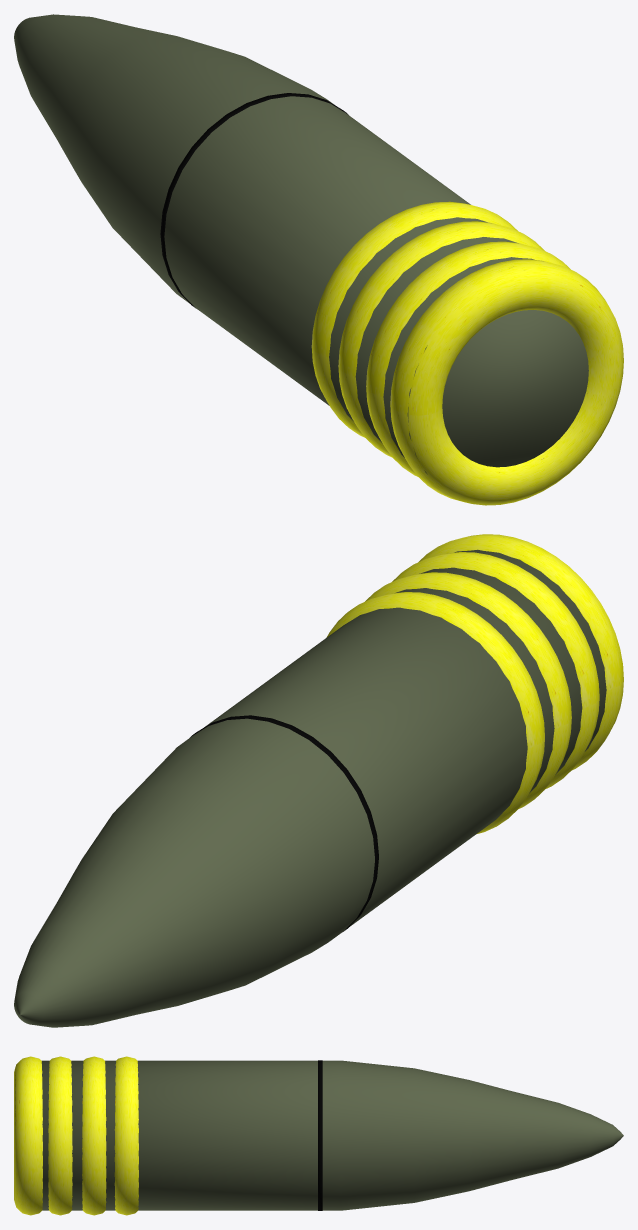
File: shell.glb
3 renders of one model, top to bottom at view 1: azimuth 30°, elevation 25°; view 2: azimuth 150°, elevation 25°; view 3: azimuth 270°, elevation 25°, orthographic. The views are drawn at different scales.
Parts seen in each view (by area): view 1: Tore.002; view 2: Tore.002; view 3: Tore.002.
Boxes of the visible parts, <box> form: Tore.002: <box>14,14,623,505</box>; Tore.002: <box>14,534,623,1027</box>; Tore.002: <box>14,1056,623,1215</box>.
Bounding box in the file's own units: 0.0492 × 0.0492 × 0.1884.
Materials: 3 (3 with a texture image).
